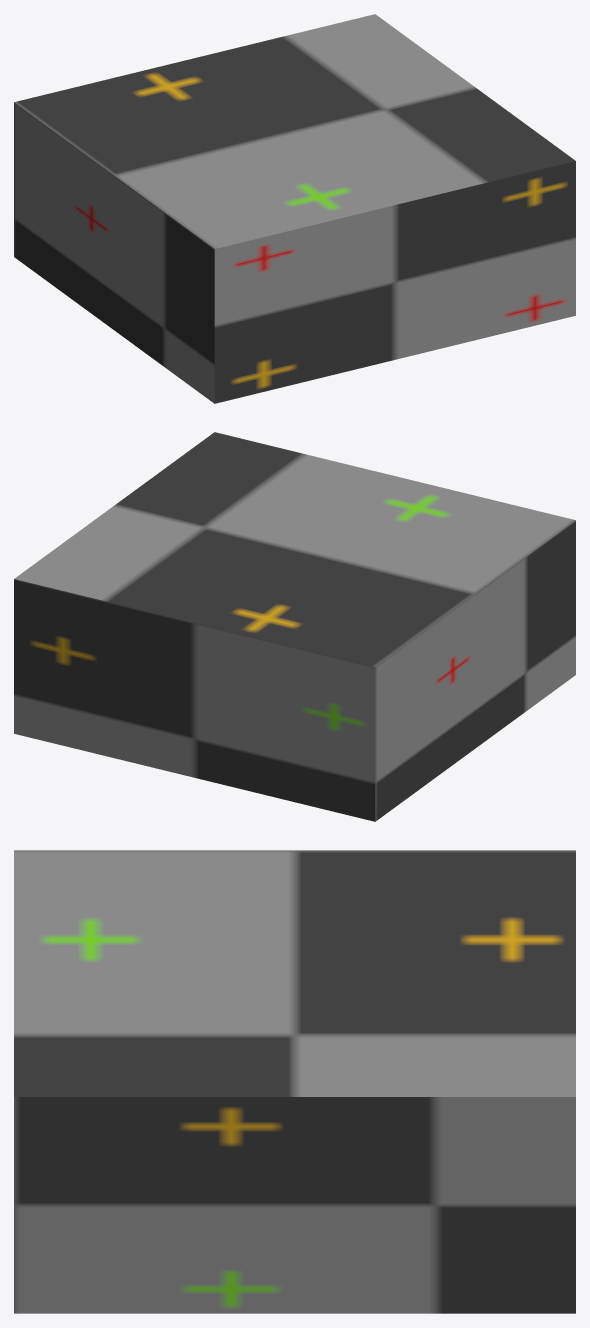
3 renders of one model, top to bottom at view 1: azimuth 30°, elevation 25°; view 2: azimuth 150°, elevation 25°; view 3: azimuth 270°, elevation 25°, orthographic. The views are drawn at different scales.
Parts seen in each view (by area): view 1: Cube_029; view 2: Cube_029; view 3: Cube_029.
Boxes of the visible parts, x1,y1,x2,y2 form: Cube_029: (14,14,575,403); Cube_029: (14,432,575,821); Cube_029: (14,850,575,1313).
Bounding box in the file's own units: 1.98 × 0.8088 × 1.9.
1 material, 1 textured.
